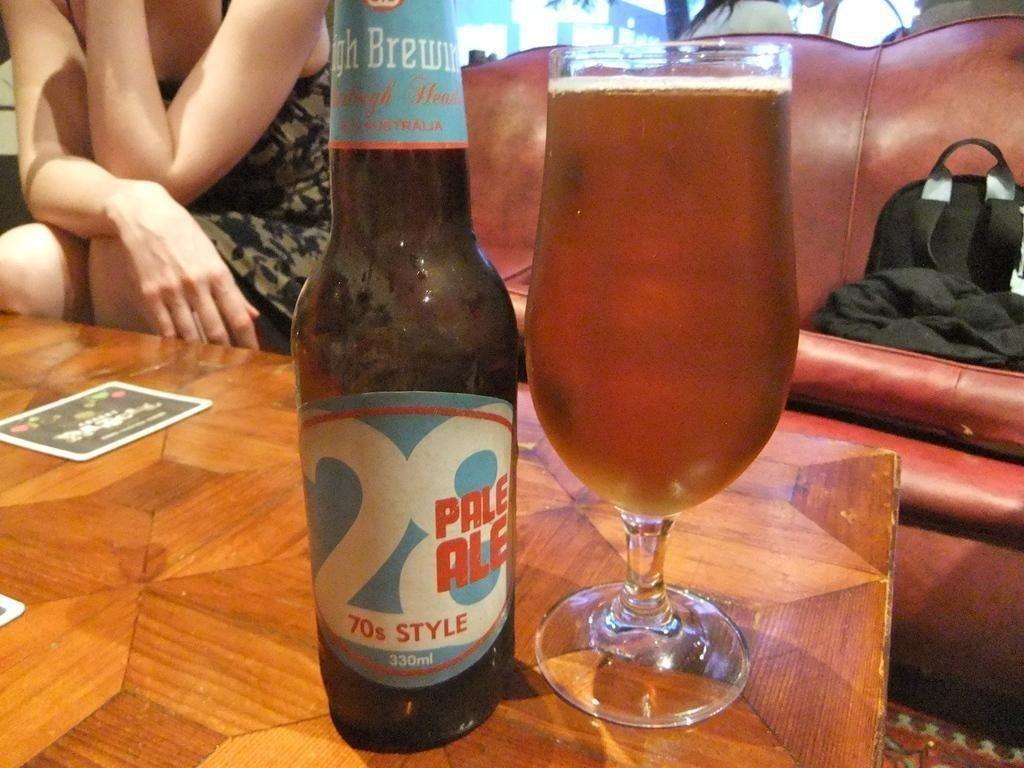bottle-glass: (288, 1, 523, 754)
glass-wine: (520, 39, 801, 727)
